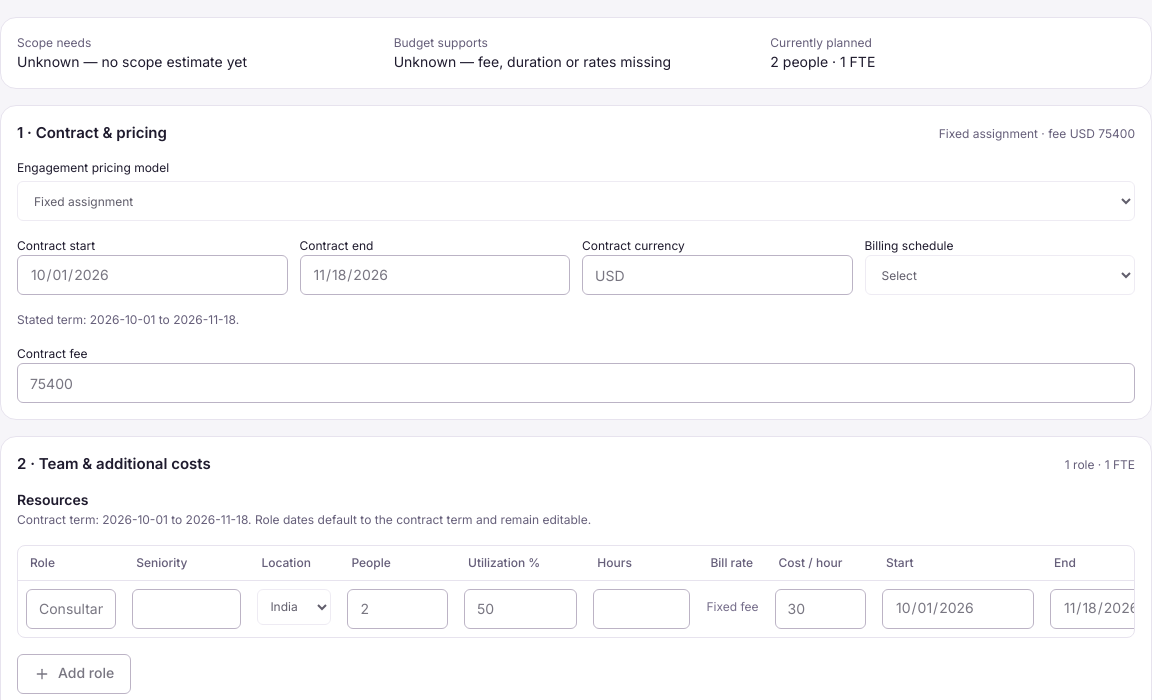
Test: Staffing & GM simplified plan › the approval-flow note names the CEO step while GM is below floor or unassessed
Replace the text in the field labelled "Contract fee" with "10000" at (576, 383), box x1=17 y1=363 x2=1135 y2=403
(page scrolled)
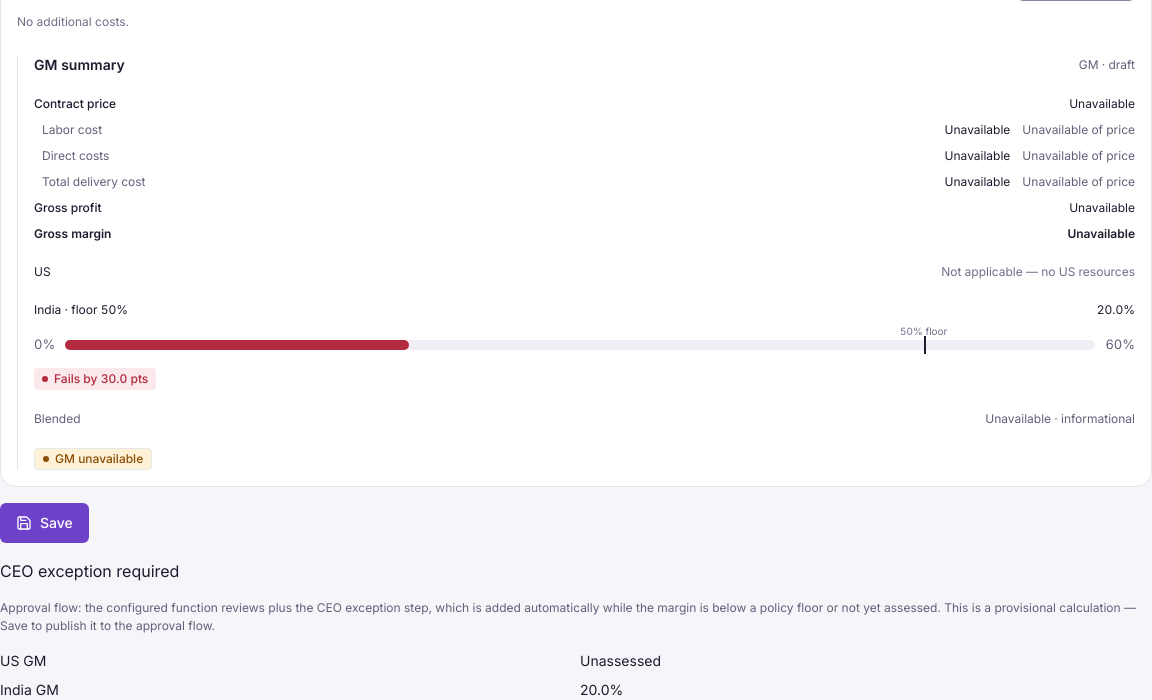
Check: the text "CEO exception required" is shown, box x1=0 y1=561 x2=179 y2=581
Check: the text with test id "approval-flow-note" shows "CEO exception step, which is added automatically", box x1=0 y1=600 x2=941 y2=615
